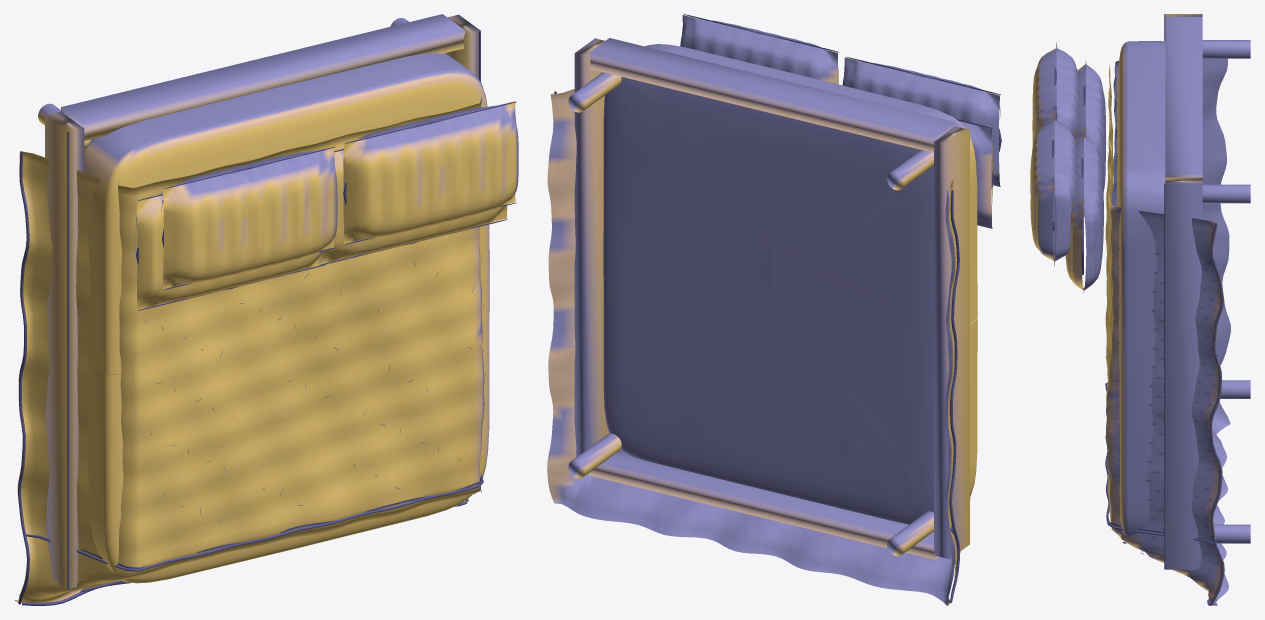
File: bed_comic.glb
The picture shows the model from 3 angles, left to right: view 1: azimuth 30°, elevation 25°; view 2: azimuth 150°, elevation 25°; view 3: azimuth 270°, elevation 25°; orthographic projection. The views are drawn at different scales.
Visible parts, largest first — view 1: soft linen duvet, rounded mattress, upper right pillow, upper left pillow, left wood rail, head wood rail, lower left pillow, lower right pillow, side duvet outline, duvet fold outline, side bed frame outline, right wood rail; view 2: rounded mattress, soft linen duvet, left wood rail, head wood rail, right wood rail, foot wood rail, upper left pillow, upper right pillow, tapered wood leg (×4), lower left pillow, side duvet outline; view 3: soft linen duvet, rounded mattress, right wood rail, head wood rail, upper right pillow, lower right pillow, upper left pillow, tapered wood leg (×4), lower left pillow, side duvet outline, halftone dots on blue violet shadow, side bed frame outline (+1 smaller).
Part boxes in pixels (box(x1,y1,x2,y2)): soft linen duvet: box(15, 97, 484, 602); rounded mattress: box(84, 53, 489, 583); upper right pillow: box(343, 101, 518, 243); upper left pillow: box(161, 146, 337, 288); left wood rail: box(45, 111, 84, 589); head wood rail: box(61, 14, 464, 140); lower left pillow: box(135, 193, 325, 309); lower right pillow: box(318, 148, 507, 264); side duvet outline: box(18, 151, 29, 604); duvet fold outline: box(26, 476, 483, 571); side bed frame outline: box(67, 132, 69, 589); right wood rail: box(447, 14, 480, 78); rounded mattress: box(603, 44, 977, 524); soft linen duvet: box(547, 89, 970, 605); left wood rail: box(934, 126, 969, 559); head wood rail: box(589, 38, 955, 152); right wood rail: box(574, 38, 609, 456); foot wood rail: box(589, 449, 938, 559); upper left pillow: box(842, 58, 1000, 186); upper right pillow: box(680, 15, 838, 84); tapered wood leg (×4): box(568, 72, 933, 556); lower left pillow: box(959, 121, 993, 228); side duvet outline: box(949, 190, 960, 602); soft linen duvet: box(1105, 58, 1230, 605); rounded mattress: box(1117, 41, 1165, 536); right wood rail: box(1165, 177, 1202, 569); head wood rail: box(1165, 16, 1202, 177); upper right pillow: box(1030, 117, 1077, 266); lower right pillow: box(1065, 129, 1103, 292); upper left pillow: box(1032, 42, 1079, 145); tapered wood leg (×4): box(1202, 40, 1250, 543); lower left pillow: box(1072, 60, 1105, 217); side duvet outline: box(1209, 223, 1223, 605); halftone dots on blue violet shadow: box(1111, 244, 1218, 565); side bed frame outline: box(1164, 183, 1165, 569).
Bounding box in the file's own units: 2.07 × 2.23 × 1.06.
